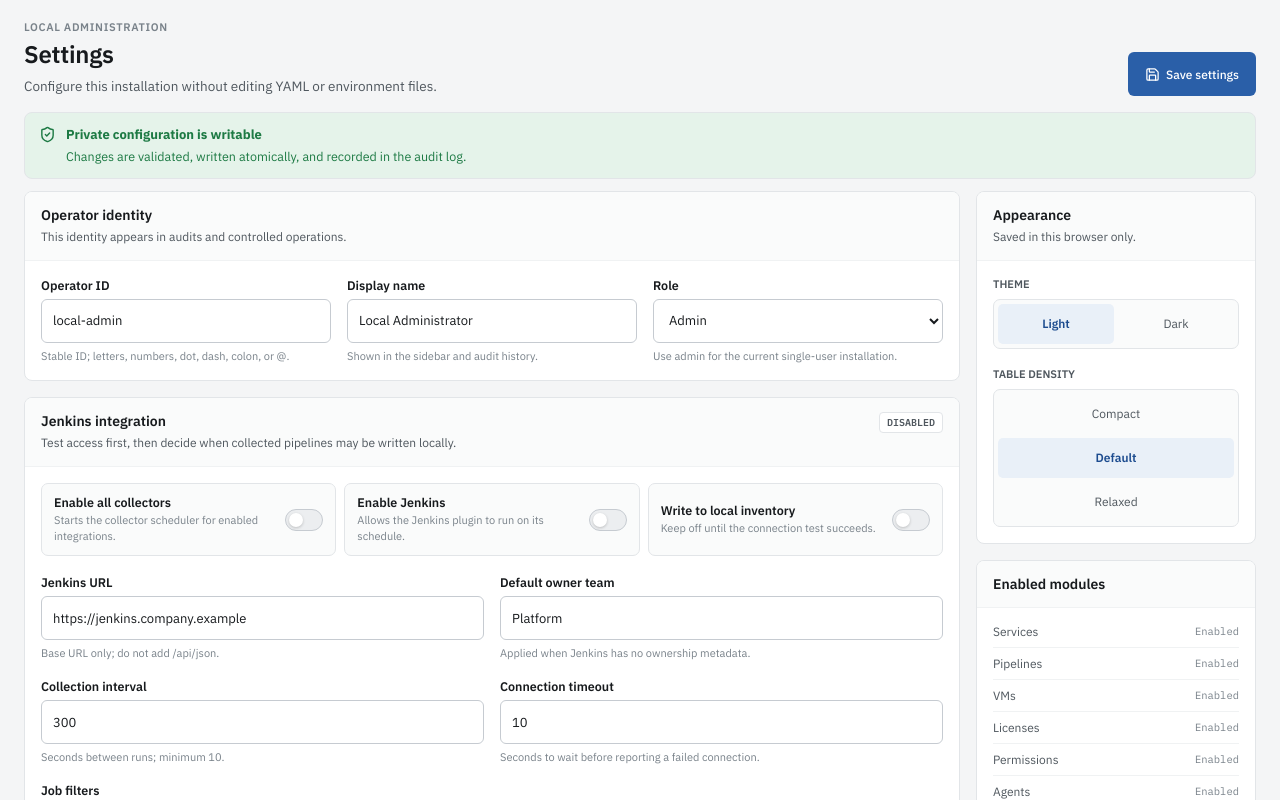
Test: SettingsPage › saves form values and updates the shell operator
Replace the text in the field showing "Local Administrator" with "Platform Administrator" at (492, 320), box [347, 298, 637, 342]
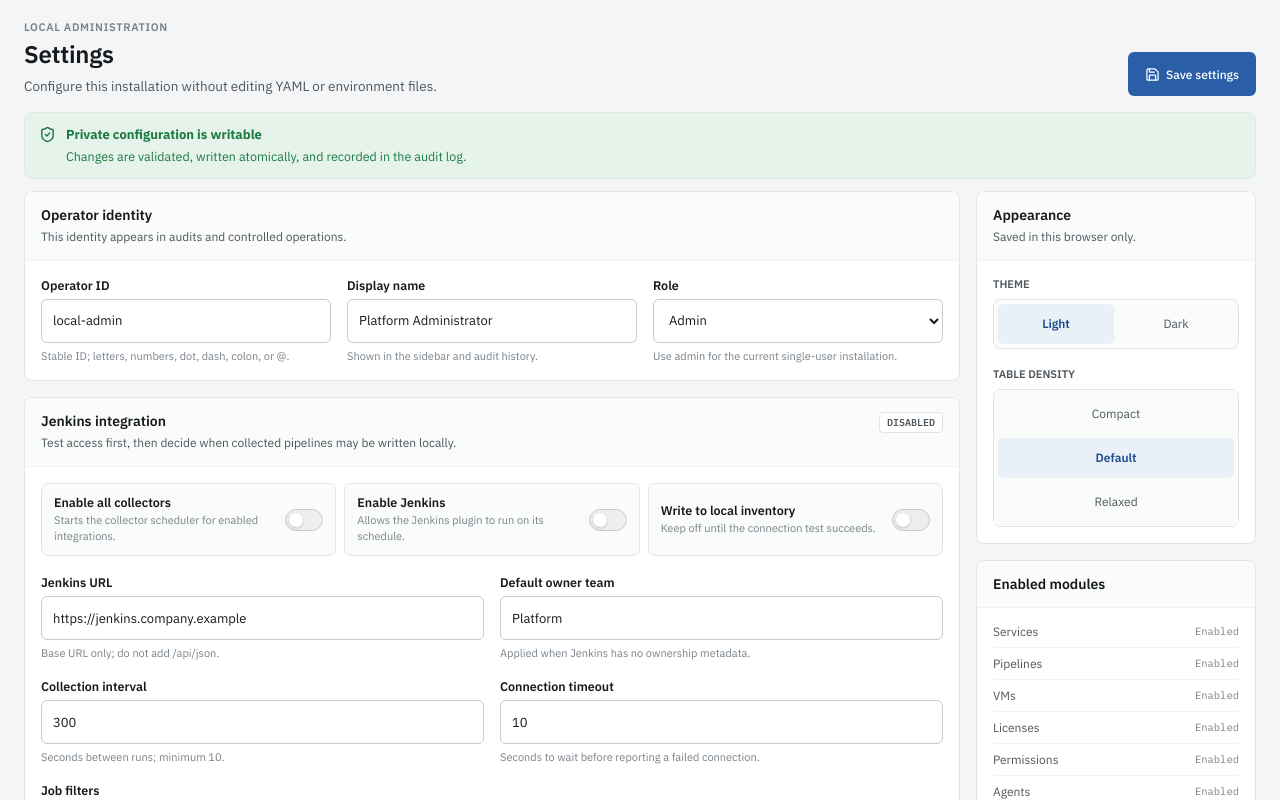
Click the button "Save settings" at (1192, 74), box [1128, 52, 1256, 96]
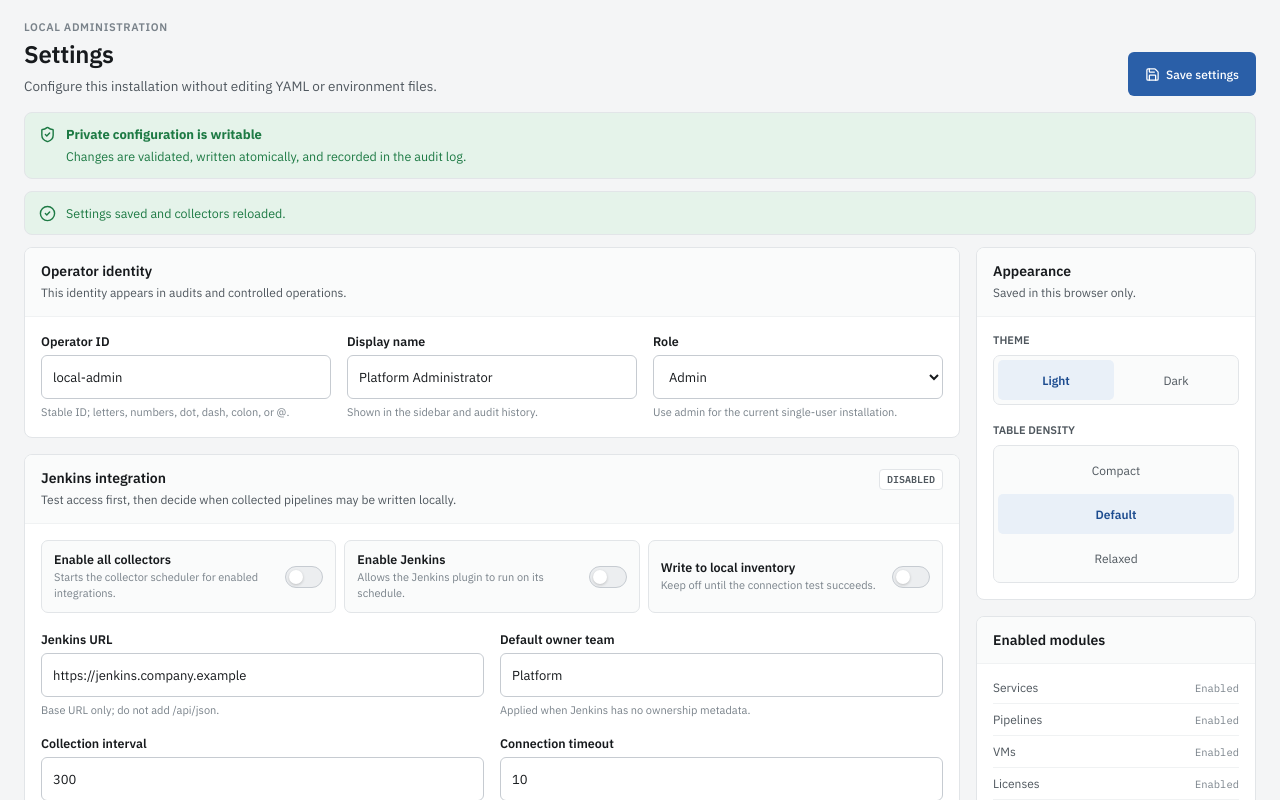
Expected: the text "Settings saved and collectors reloaded." is shown, [66, 204, 286, 222]
